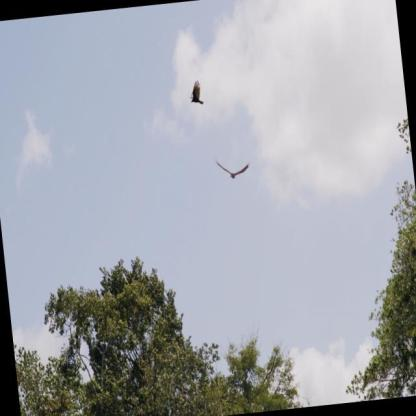bird: (212, 150, 253, 182), (188, 78, 205, 107)
